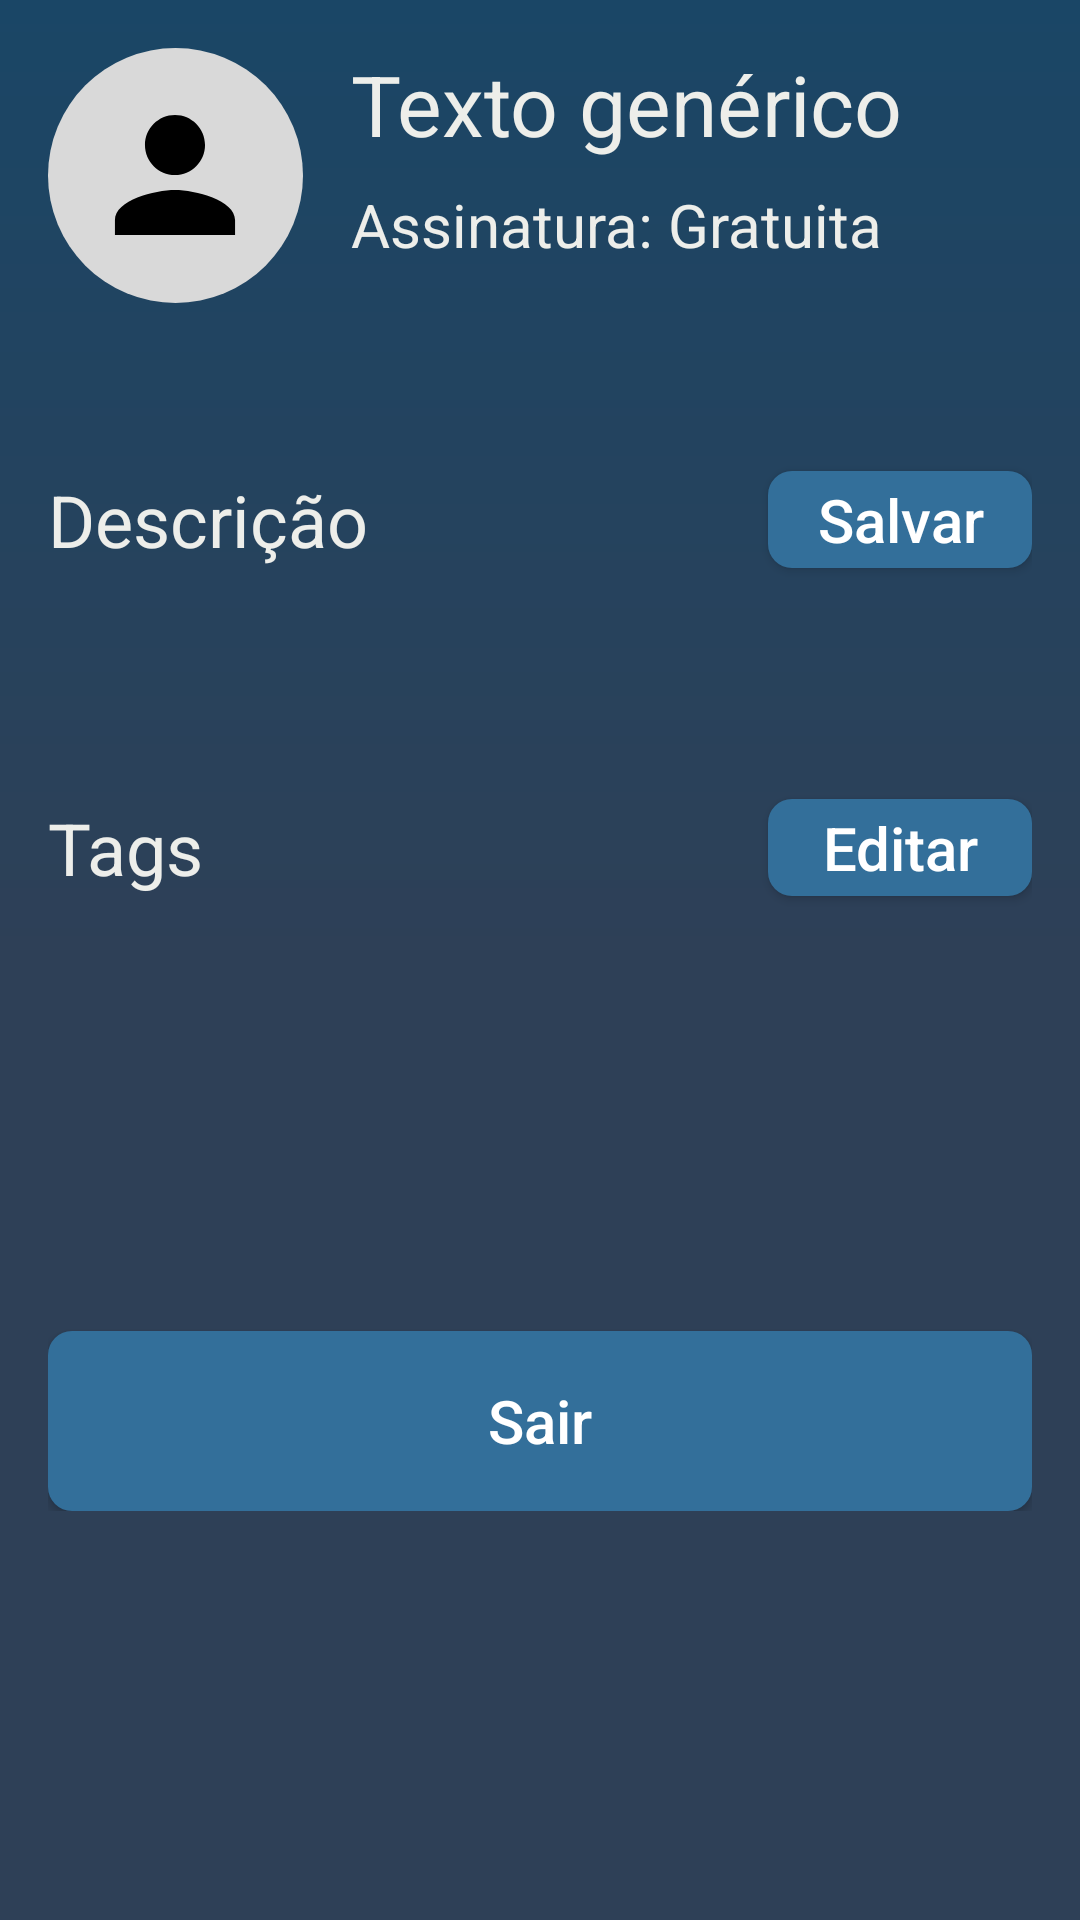

Icon bounding boxes for this 1080 × 1920 phone screenshot, format Rect(x1, y1, x2, y2):
generic pf: Rect(48, 48, 303, 303)
